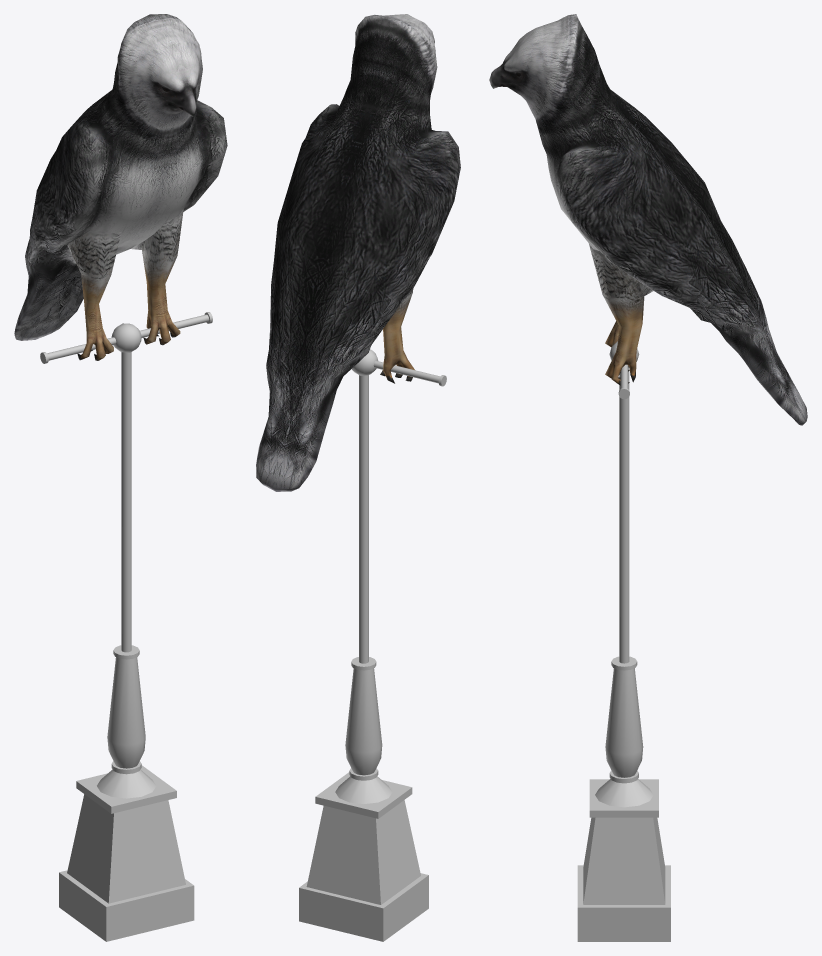
Rendered from harpy_eagle.DAE.
The picture shows the model from 3 angles, left to right: view 1: azimuth 30°, elevation 25°; view 2: azimuth 150°, elevation 25°; view 3: azimuth 270°, elevation 25°; orthographic projection. The views are drawn at different scales.
Visible parts, largest first — view 1: Box004, Box003; view 2: Box004, Box003; view 3: Box004, Box003.
Boxes of the visible parts, x1,y1,x2,y2 form: Box004: [14, 14, 227, 360]; Box003: [40, 312, 212, 941]; Box004: [256, 14, 460, 491]; Box003: [299, 349, 446, 941]; Box004: [489, 14, 807, 425]; Box003: [577, 341, 670, 941].
Size of the model in its own units: 0.3823 by 0.6416 by 2.01.
